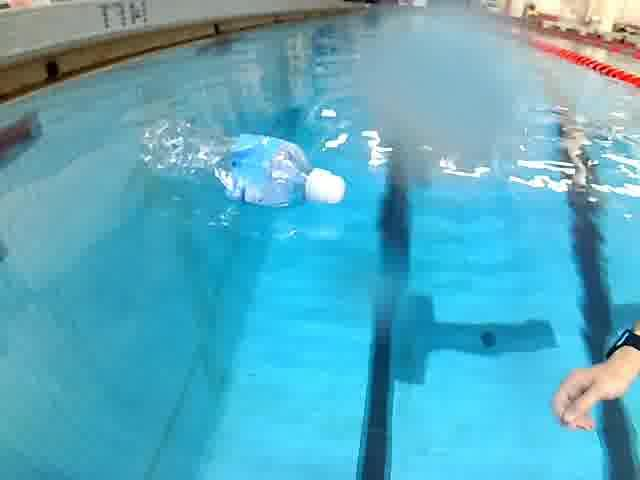Bottle: (132, 113, 356, 215)
